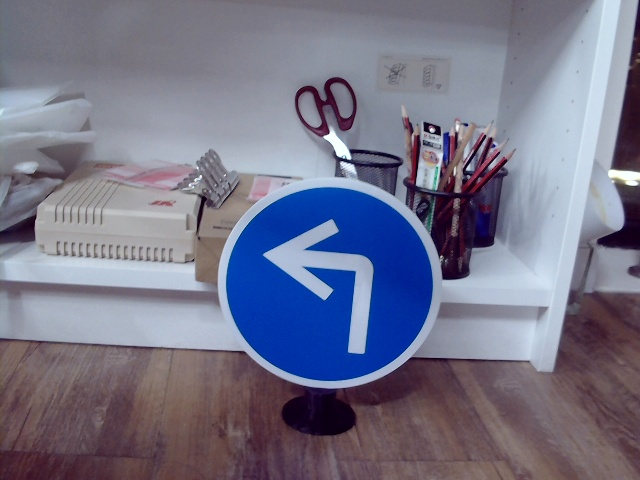turn_left: (267, 215, 385, 352)
